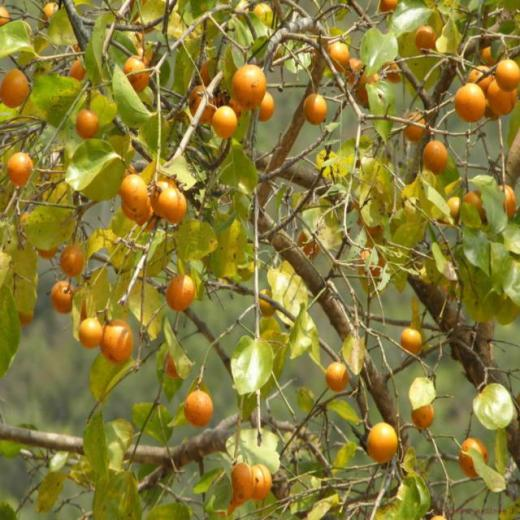Grape: (189, 57, 273, 138), (454, 47, 520, 121), (118, 165, 186, 232), (100, 319, 134, 366), (366, 423, 399, 464), (0, 67, 30, 110), (459, 436, 489, 478), (183, 391, 214, 427), (165, 273, 194, 311), (231, 462, 255, 504), (124, 55, 149, 93), (7, 152, 34, 187), (422, 140, 448, 175), (128, 0, 154, 33), (59, 243, 84, 277), (462, 192, 486, 225), (357, 72, 379, 107), (78, 317, 102, 349), (52, 281, 74, 315), (304, 93, 325, 126), (326, 362, 349, 392), (252, 463, 270, 501), (75, 110, 98, 139), (326, 42, 348, 72), (360, 248, 383, 276), (416, 28, 436, 58), (412, 402, 434, 429), (162, 349, 181, 380), (401, 328, 422, 356), (298, 230, 318, 259), (407, 110, 426, 140), (345, 58, 364, 86), (500, 185, 515, 220), (40, 2, 58, 29), (445, 195, 460, 226), (214, 494, 234, 517), (253, 2, 272, 26), (382, 62, 402, 83), (68, 59, 86, 82), (135, 42, 153, 64), (259, 288, 273, 316), (440, 277, 455, 302), (351, 197, 363, 225), (379, 0, 398, 16), (19, 212, 29, 241), (366, 223, 384, 238), (236, 0, 249, 20), (76, 289, 86, 314), (18, 312, 32, 327), (36, 250, 57, 260), (0, 5, 9, 27), (429, 514, 445, 520)
